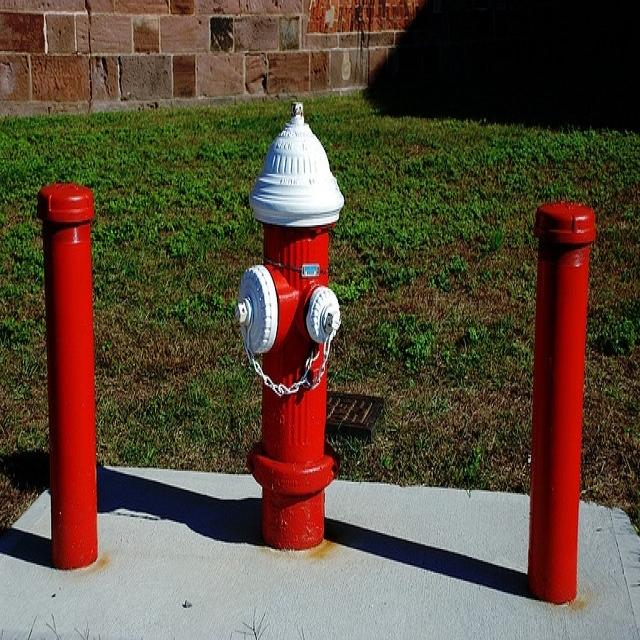fire_hydrant: (216, 98, 378, 552)
